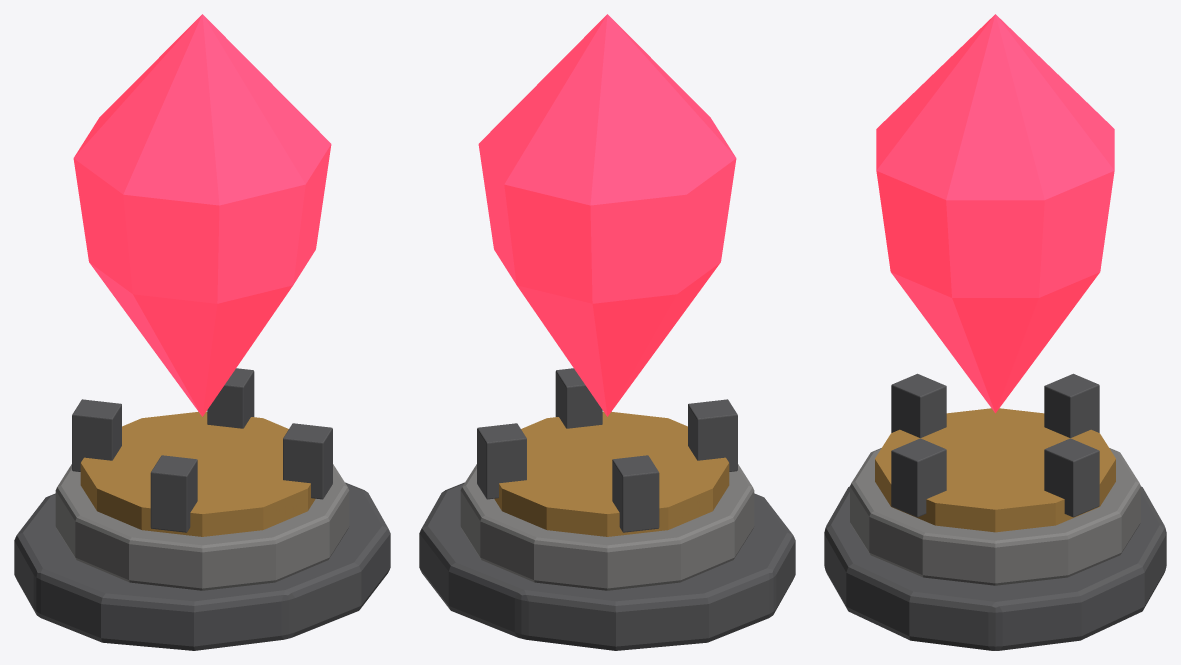
File: ReferenceInspired_MagicStone_Altar.fbx
3 renders of one model, left to right at view 1: azimuth 30°, elevation 25°; view 2: azimuth 150°, elevation 25°; view 3: azimuth 270°, elevation 25°, orthographic.
Parts seen in each view (by area): view 1: Core.007, Pedestal_Base.001, Pedestal_Top.001, Pedestal_Body.001, Pedestal_Corner_2, Pedestal_Corner_3, Pedestal_Corner_1, Pedestal_Corner_0; view 2: Core.007, Pedestal_Base.001, Pedestal_Top.001, Pedestal_Body.001, Pedestal_Corner_1, Pedestal_Corner_0, Pedestal_Corner_2, Pedestal_Corner_3; view 3: Core.007, Pedestal_Base.001, Pedestal_Body.001, Pedestal_Top.001, Pedestal_Corner_0, Pedestal_Corner_3, Pedestal_Corner_1, Pedestal_Corner_2.
Part boxes in pixels (bbox=[...]): Core.007: bbox=[73, 14, 331, 416]; Pedestal_Base.001: bbox=[14, 482, 390, 650]; Pedestal_Top.001: bbox=[80, 411, 315, 536]; Pedestal_Body.001: bbox=[55, 464, 349, 590]; Pedestal_Corner_2: bbox=[150, 455, 197, 532]; Pedestal_Corner_3: bbox=[283, 423, 332, 499]; Pedestal_Corner_1: bbox=[72, 399, 121, 471]; Pedestal_Corner_0: bbox=[207, 368, 254, 428]; Core.007: bbox=[478, 14, 736, 416]; Pedestal_Base.001: bbox=[419, 482, 795, 650]; Pedestal_Top.001: bbox=[494, 411, 729, 536]; Pedestal_Body.001: bbox=[460, 464, 754, 590]; Pedestal_Corner_1: bbox=[612, 455, 659, 532]; Pedestal_Corner_0: bbox=[477, 423, 526, 499]; Pedestal_Corner_2: bbox=[688, 399, 737, 471]; Pedestal_Corner_3: bbox=[555, 368, 602, 428]; Core.007: bbox=[876, 14, 1114, 413]; Pedestal_Base.001: bbox=[824, 486, 1166, 650]; Pedestal_Body.001: bbox=[850, 448, 1140, 585]; Pedestal_Top.001: bbox=[875, 408, 1115, 532]; Pedestal_Corner_0: bbox=[1044, 438, 1099, 517]; Pedestal_Corner_3: bbox=[891, 438, 946, 517]; Pedestal_Corner_1: bbox=[1044, 373, 1099, 437]; Pedestal_Corner_2: bbox=[891, 373, 946, 437].
Bounding box in the file's own units: 1.83 × 2.97 × 1.65.
